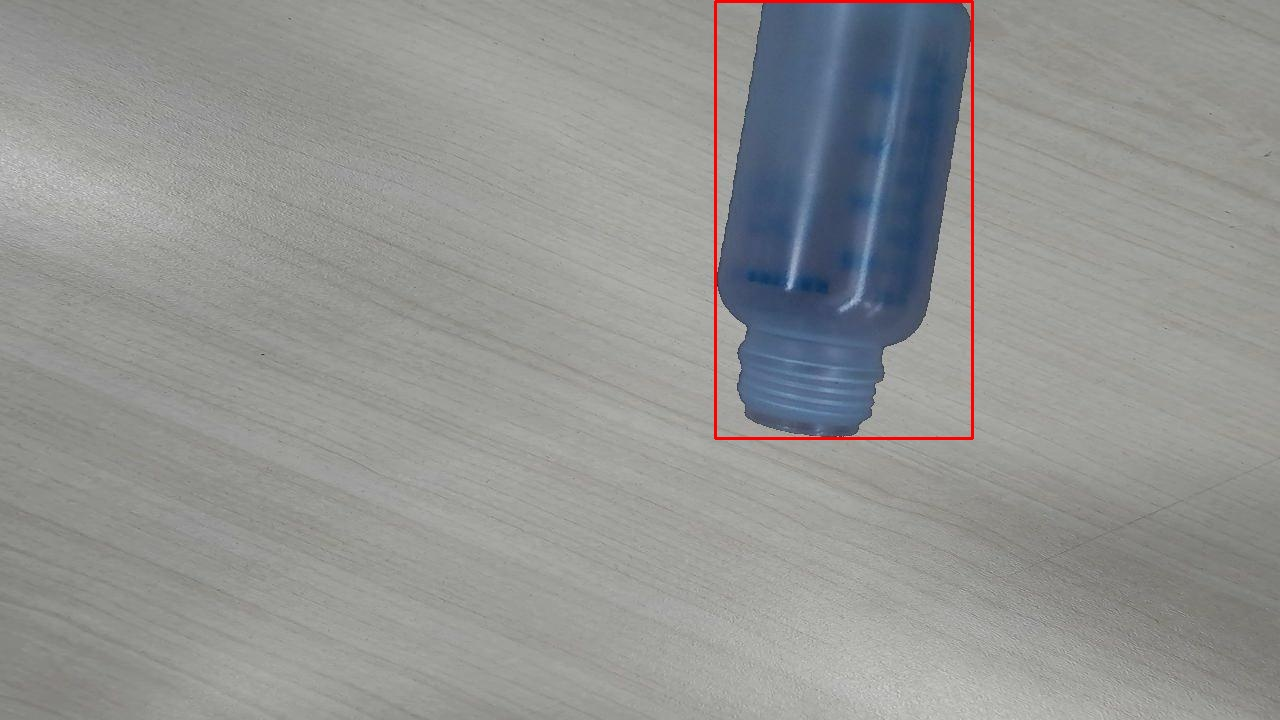cup: (715, 1, 972, 438)
